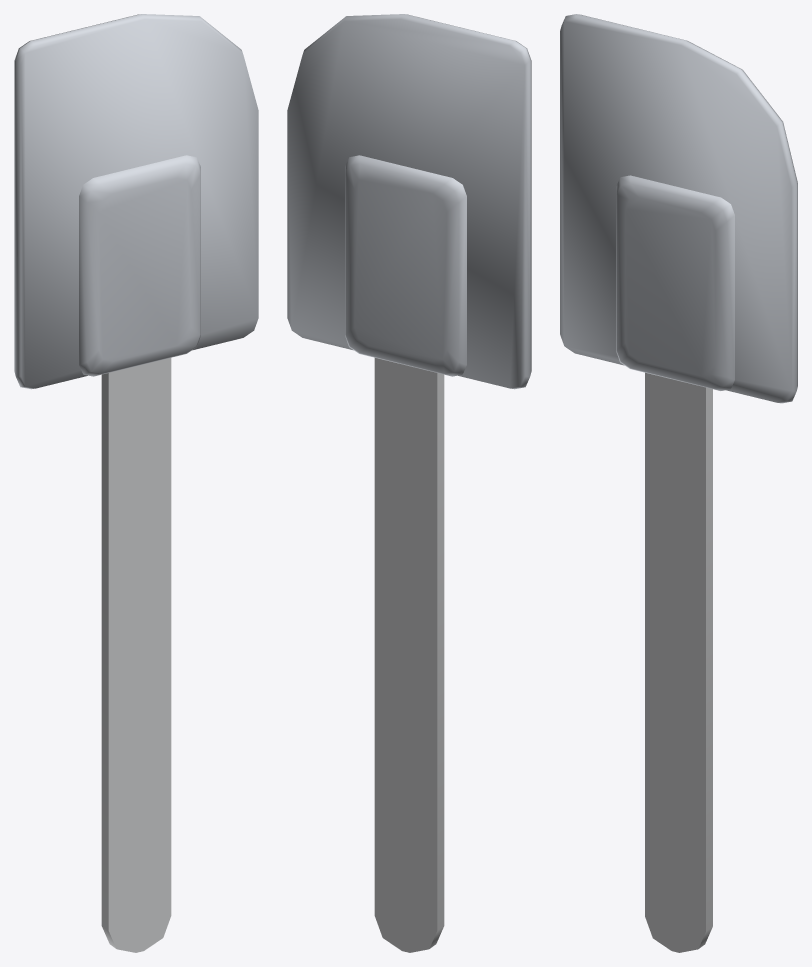
File: cutensils_spatula_rubber_white.glb
3 views of the same model, side by side, from view 1: azimuth 30°, elevation 25°; view 2: azimuth 150°, elevation 25°; view 3: azimuth 330°, elevation 25° (orthographic). The views are drawn at different scales.
Visible parts, largest first — view 1: cutensils spatula rubber white; view 2: cutensils spatula rubber white; view 3: cutensils spatula rubber white.
Part boxes in pixels (box(x1,y1,x2,y2)): cutensils spatula rubber white: box(14, 14, 258, 952); cutensils spatula rubber white: box(287, 14, 531, 952); cutensils spatula rubber white: box(560, 14, 797, 952).
Bounding box in the file's own units: 1.86 × 6.88 × 0.2312.
Materials: 1 (1 with a texture image).
